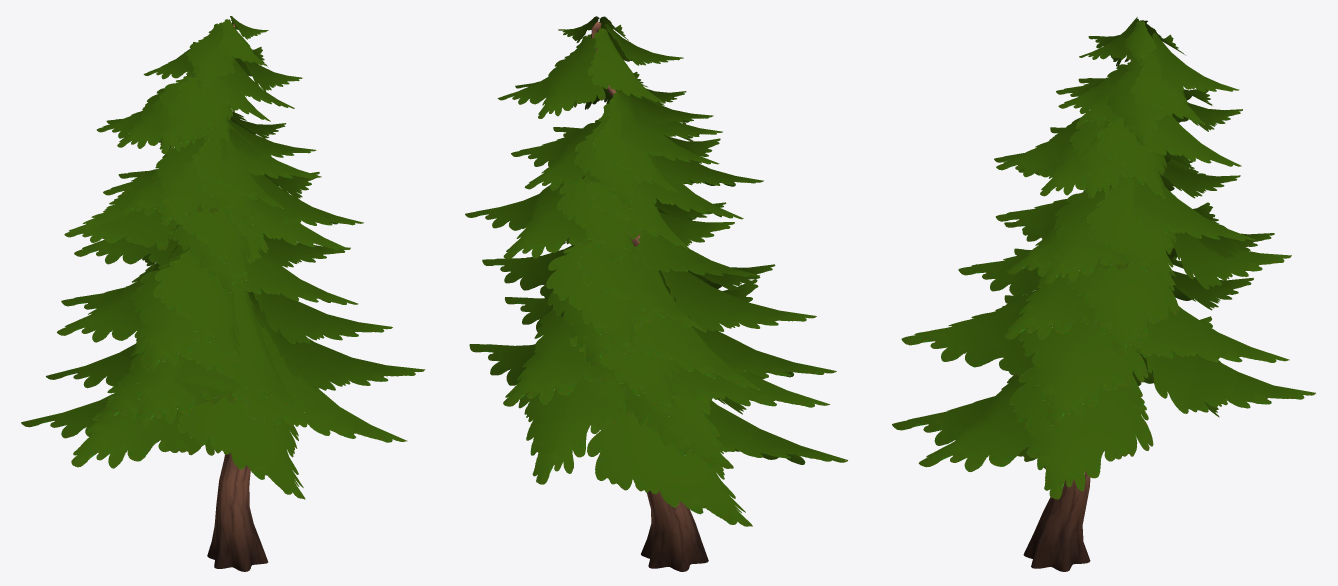
Rendered from Pine_5.glb.
3 views of the same model, side by side, from view 1: azimuth 30°, elevation 25°; view 2: azimuth 150°, elevation 25°; view 3: azimuth 270°, elevation 25° (orthographic). The views are drawn at different scales.
Parts seen in each view (by area): view 1: Pine_5; view 2: Pine_5; view 3: Pine_5.
Part boxes in pixels (x1,y1,x2,y2): Pine_5: (21,16,425,571); Pine_5: (465,16,847,571); Pine_5: (892,17,1315,571).
Bounding box in the file's own units: 6.42 × 8.72 × 6.22.
Materials: 2 (2 with a texture image).
